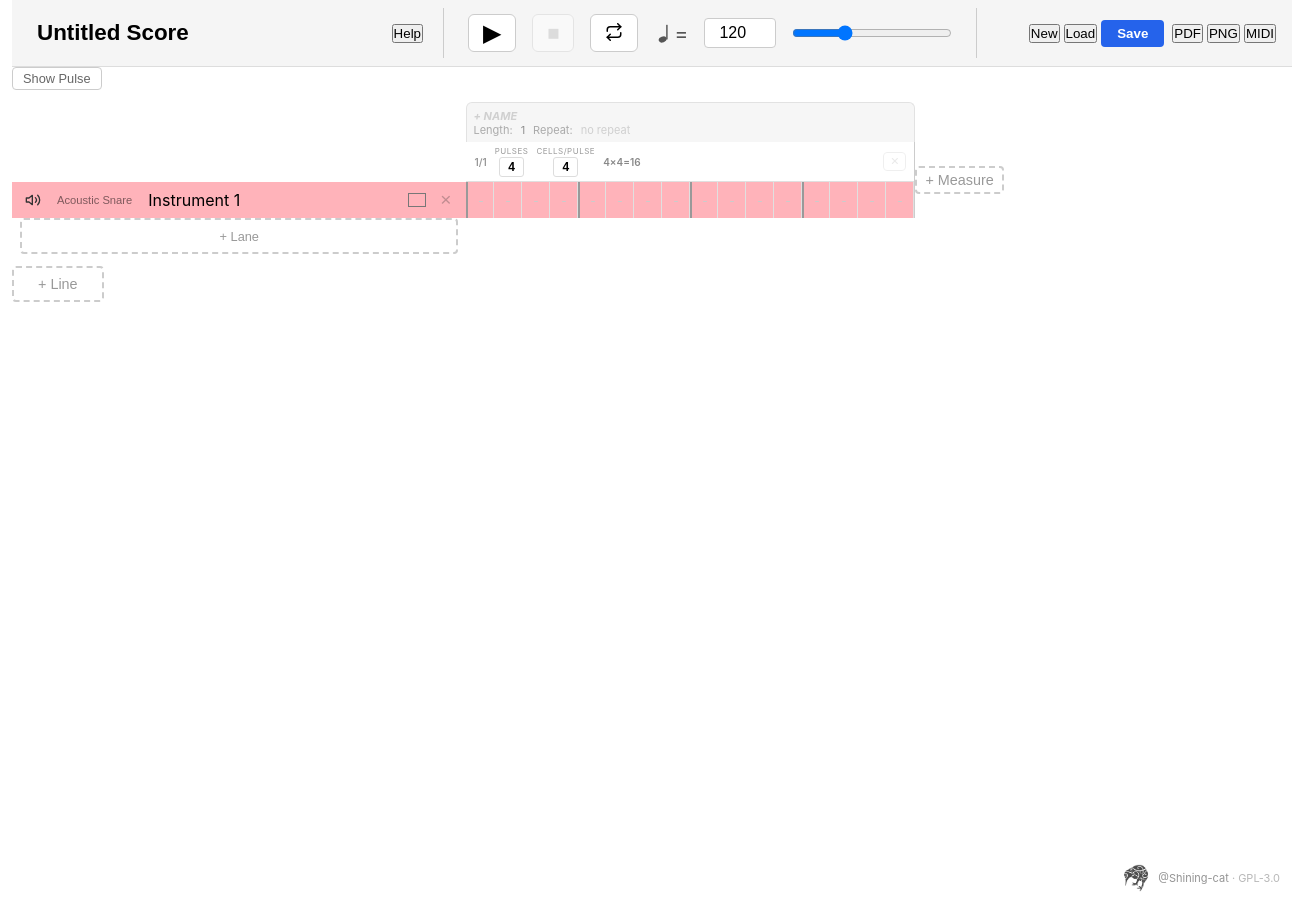
Test: App › shows unsaved indicator after edit
Click the 1st text "-": coordinates (481, 200) [478,192,484,208]
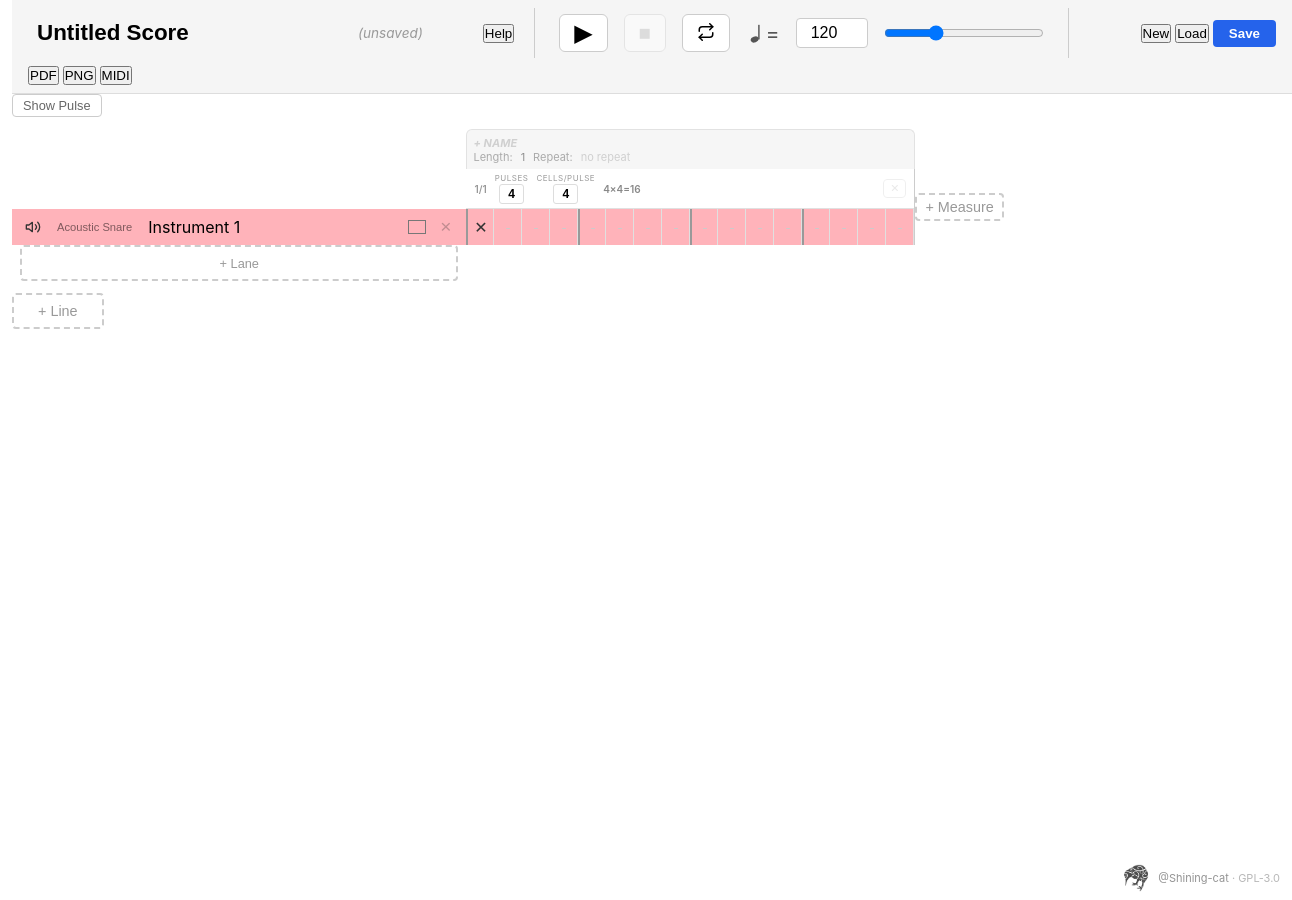
Result: the text "(unsaved)" is shown at [358,25,423,41]
